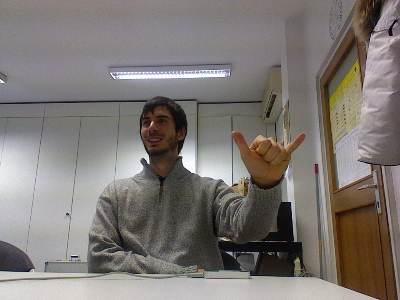六六六: (229, 129, 306, 183)
